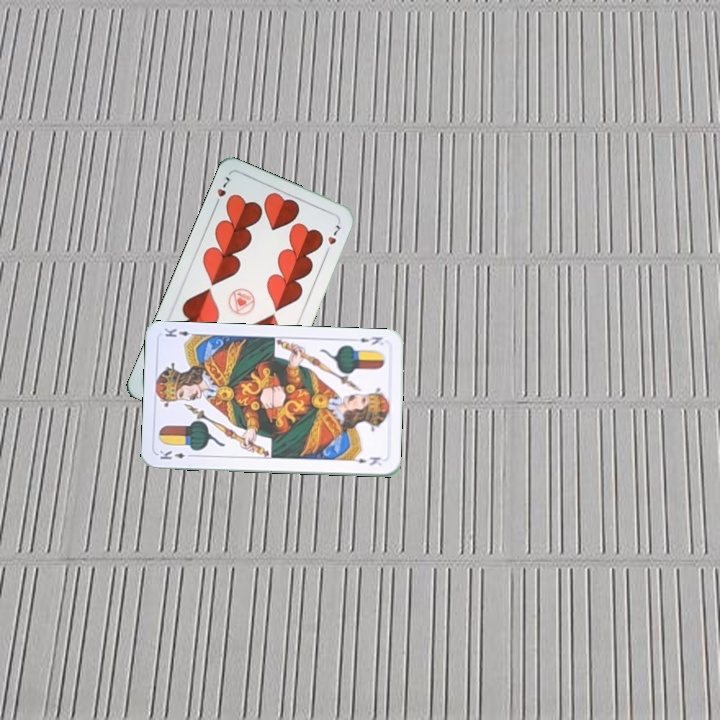EK: (155, 447, 196, 462), (348, 332, 385, 348)
H7: (210, 172, 233, 210)
